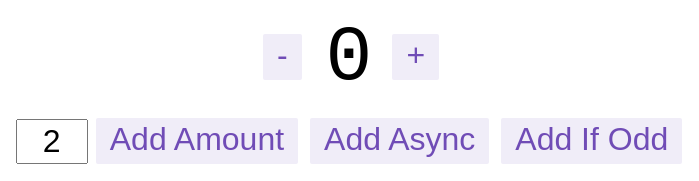
Test: Counter component › increments the counter
Click the button named "increment value": (416, 57) [392, 34, 439, 80]
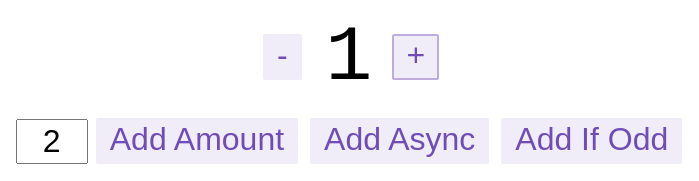
Expected: the text "1" is shown, [326, 14, 372, 102]
